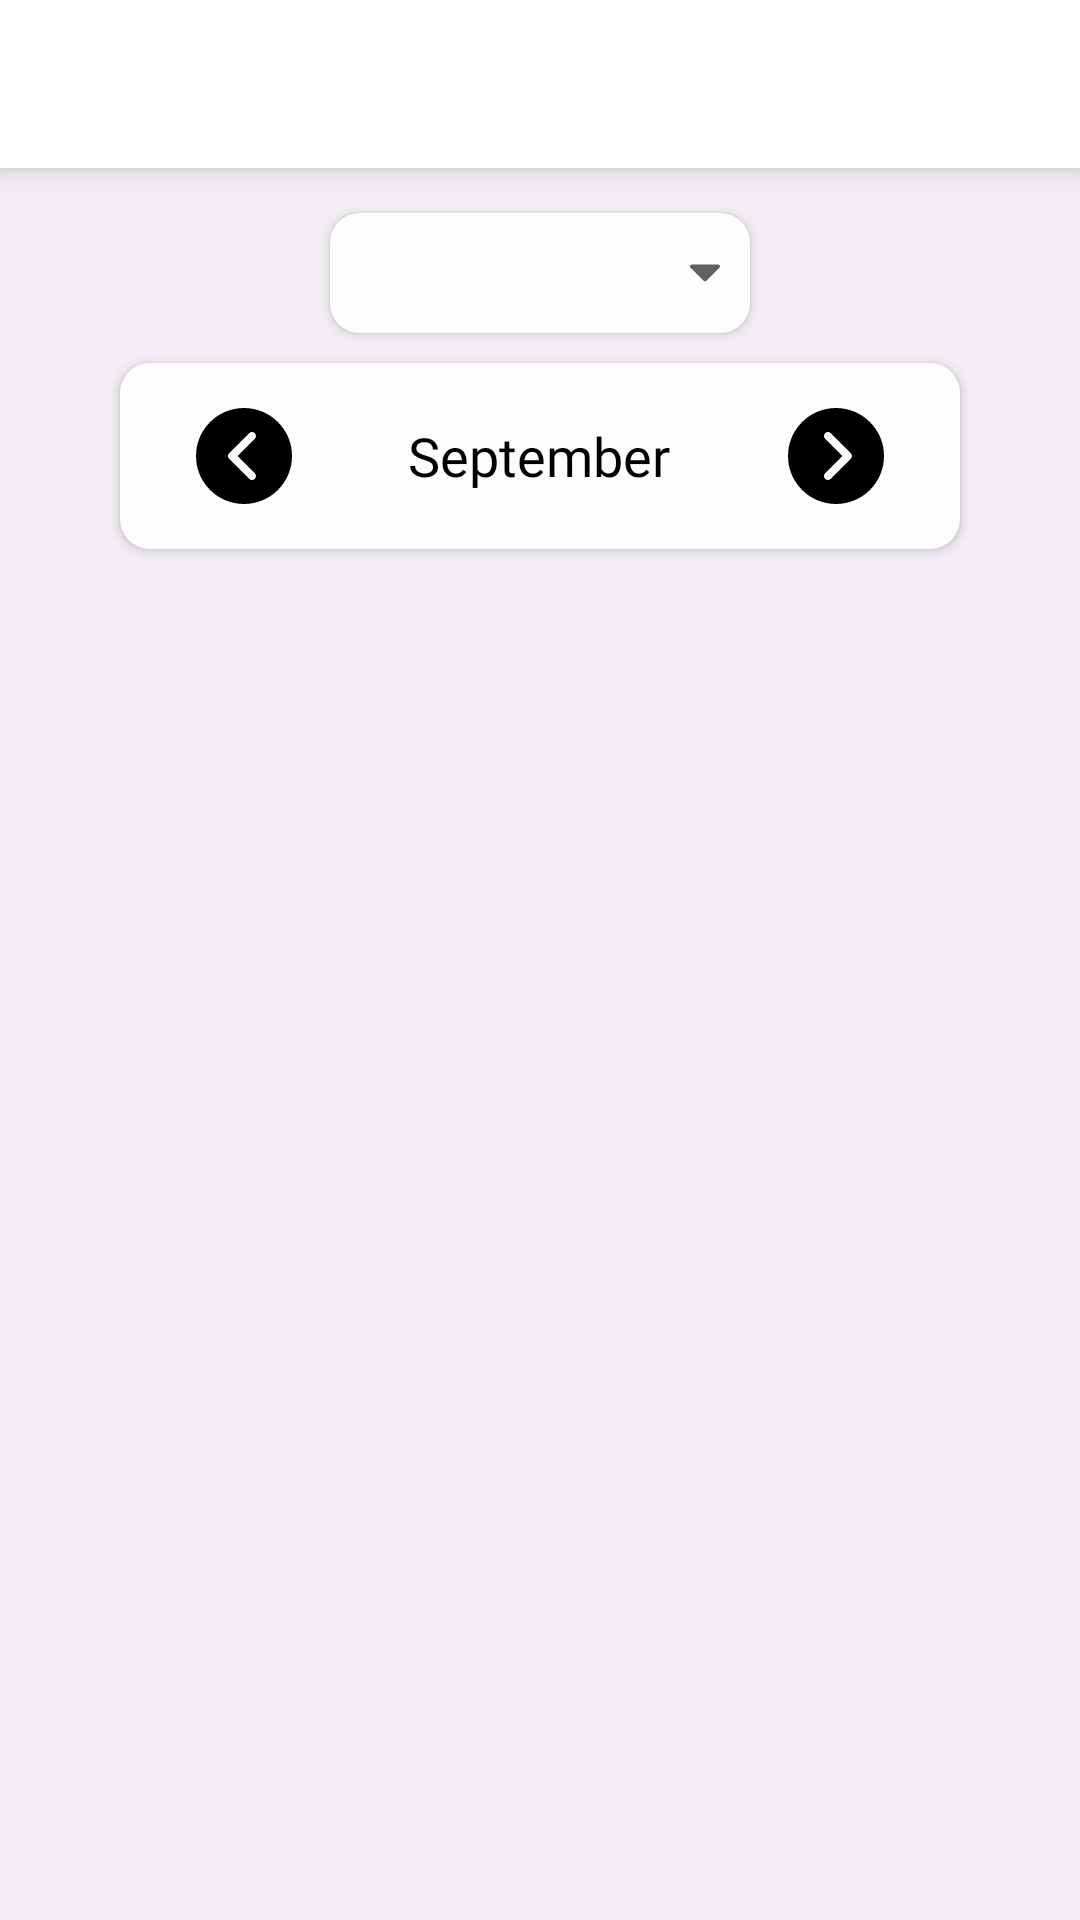

Where icons sit on this 1080px×1920px app screen, as (x1, y1, x2, y2):
left arrow: (196, 408, 292, 504)
right arrow: (788, 408, 884, 504)
